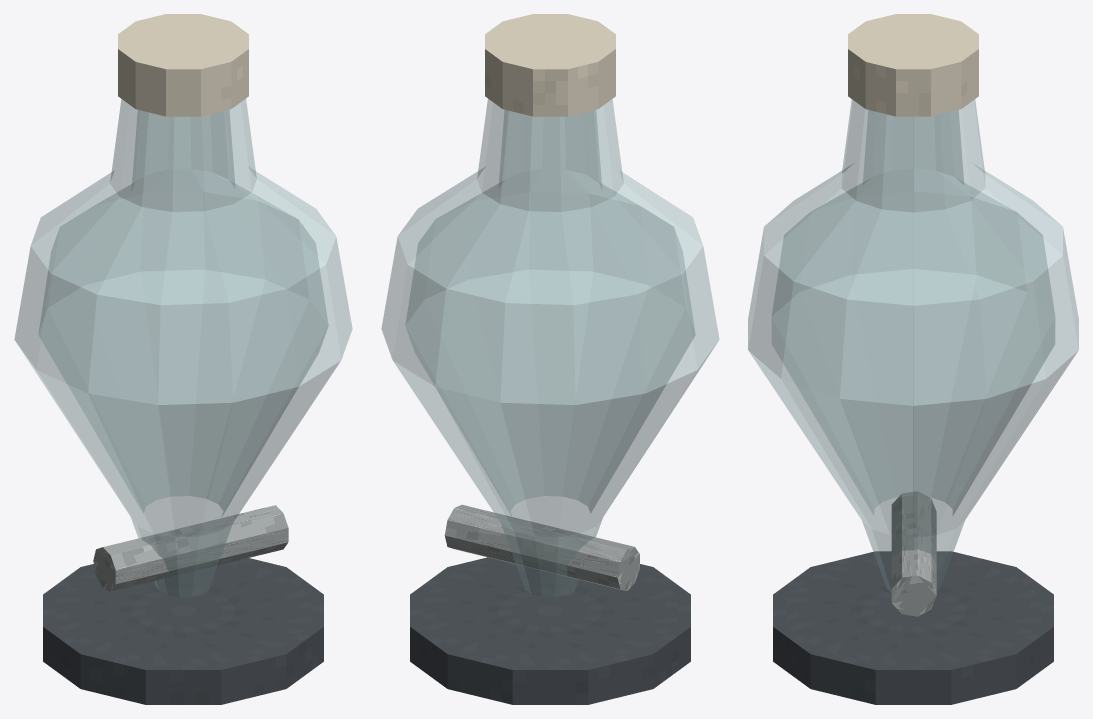
Rendered from funnel_separation.glb.
3 renders of one model, left to right at view 1: azimuth 30°, elevation 25°; view 2: azimuth 150°, elevation 25°; view 3: azimuth 270°, elevation 25°, orthographic.
Visible parts, largest first — view 1: block_pear-shaped separatory funnel, block_protective ring stand, block_funnel stopper, block_stopcock; view 2: block_pear-shaped separatory funnel, block_protective ring stand, block_funnel stopper, block_stopcock; view 3: block_pear-shaped separatory funnel, block_protective ring stand, block_funnel stopper, block_stopcock.
Boxes of the visible parts, x1,y1,x2,y2 form: block_pear-shaped separatory funnel: (14,99,352,597); block_protective ring stand: (43,558,323,704); block_funnel stopper: (118,14,248,116); block_stopcock: (93,505,288,591); block_pear-shaped separatory funnel: (381,99,719,597); block_protective ring stand: (410,557,690,704); block_funnel stopper: (485,14,615,116); block_stopcock: (444,504,639,591); block_pear-shaped separatory funnel: (748,99,1078,592); block_protective ring stand: (773,551,1053,704); block_funnel stopper: (848,14,978,116); block_stopcock: (891,491,936,616).
Size of the model in its own units: 0.0859 by 0.1687 by 0.0837.
Materials: 2 (2 with a texture image).
